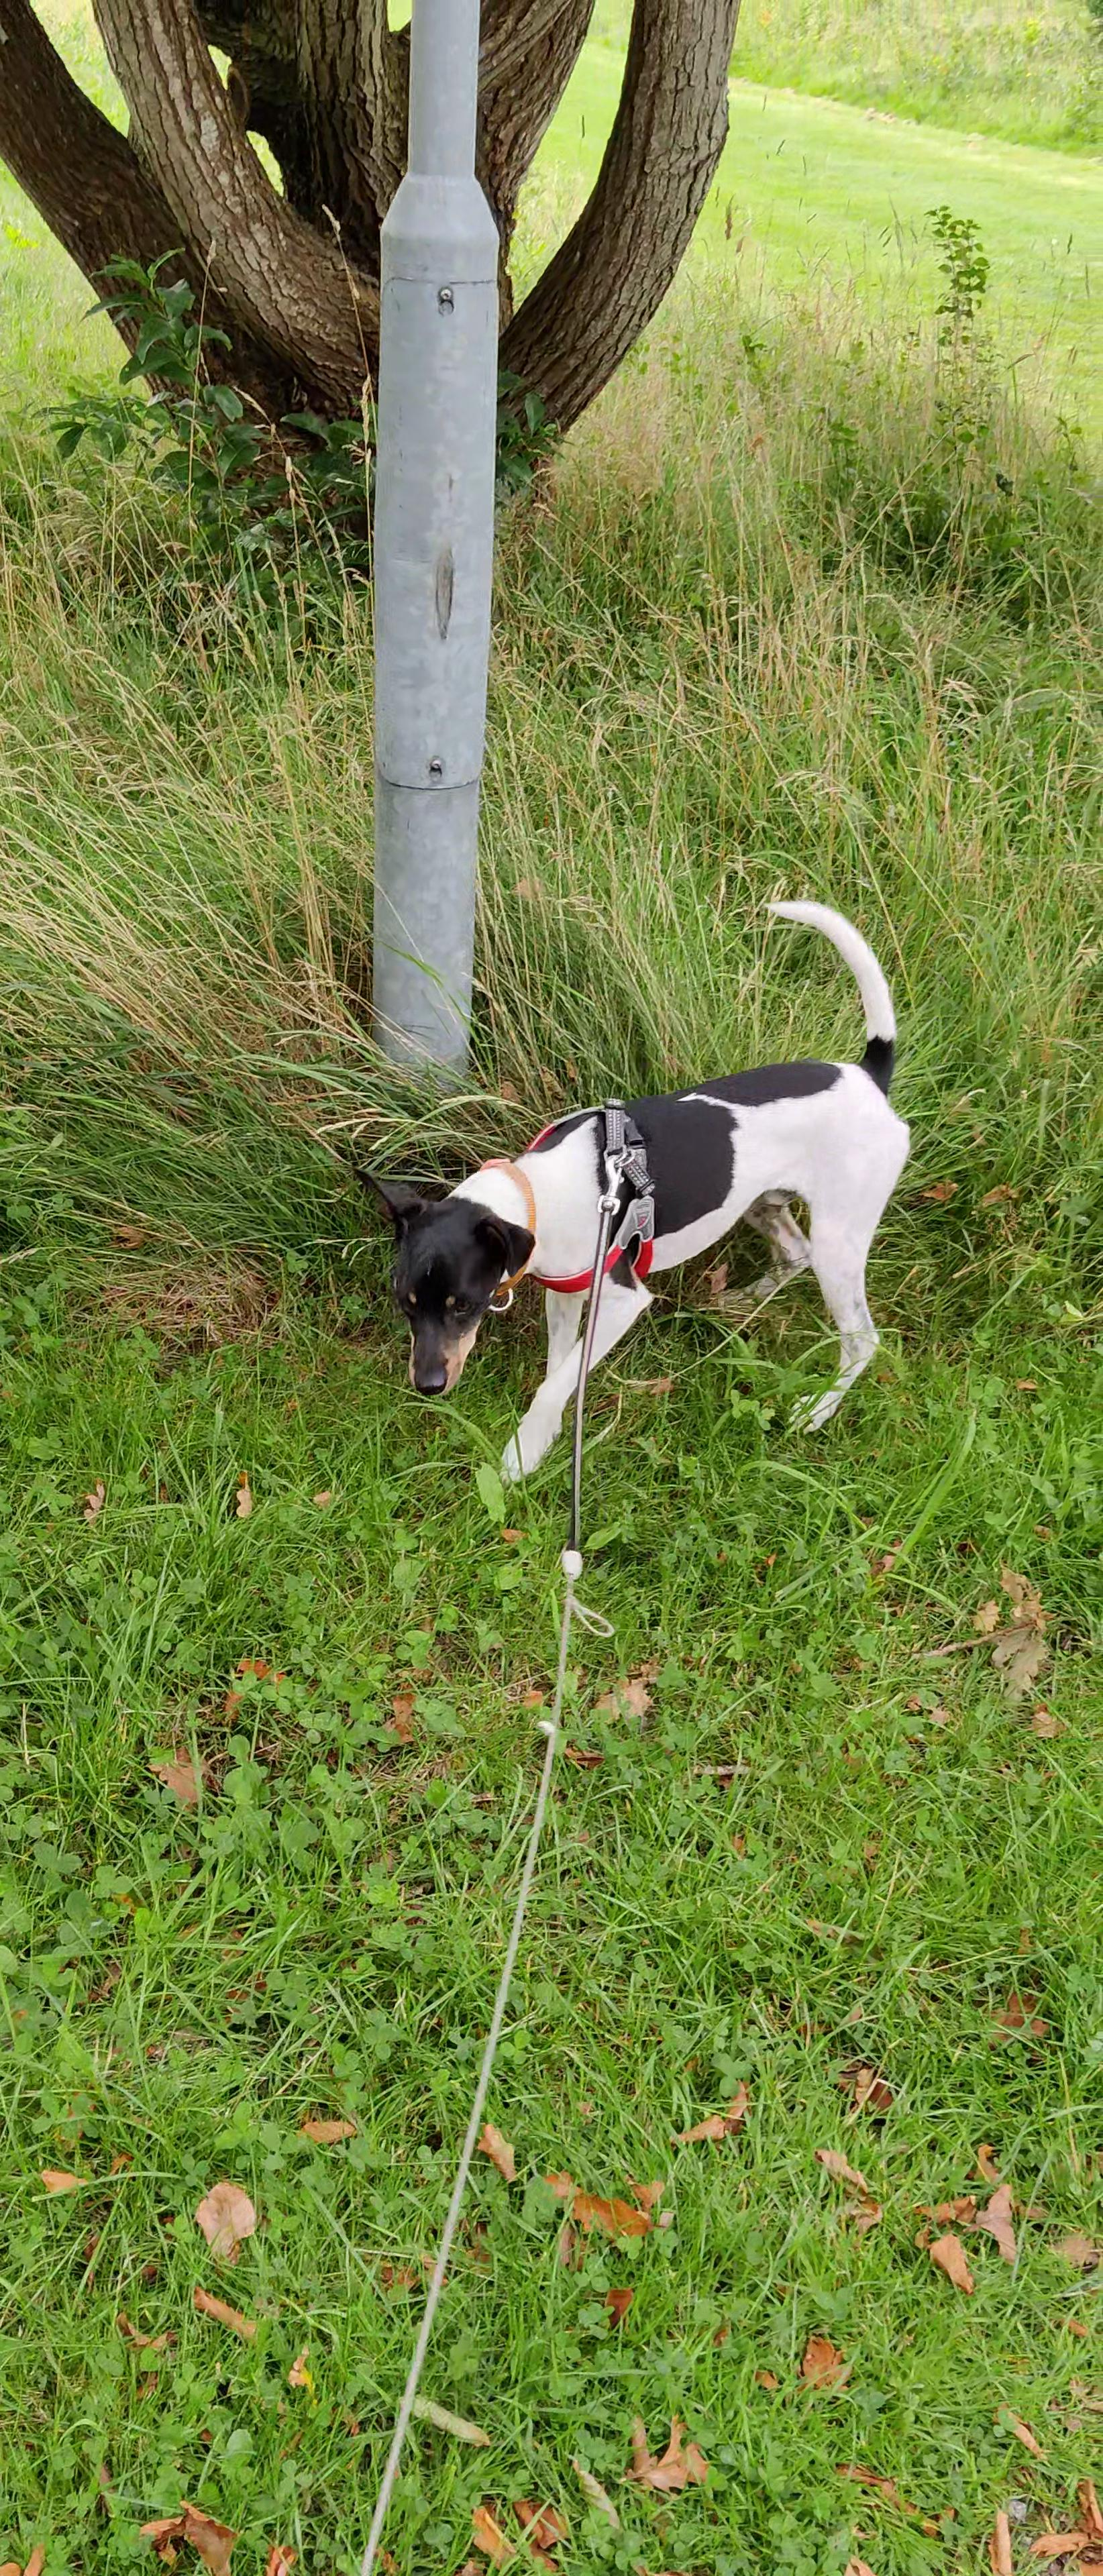Dog: (330, 876, 932, 1493)
